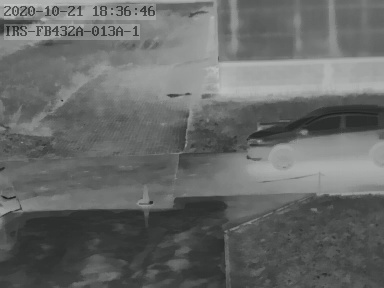vehicle: (246, 104, 384, 176)
